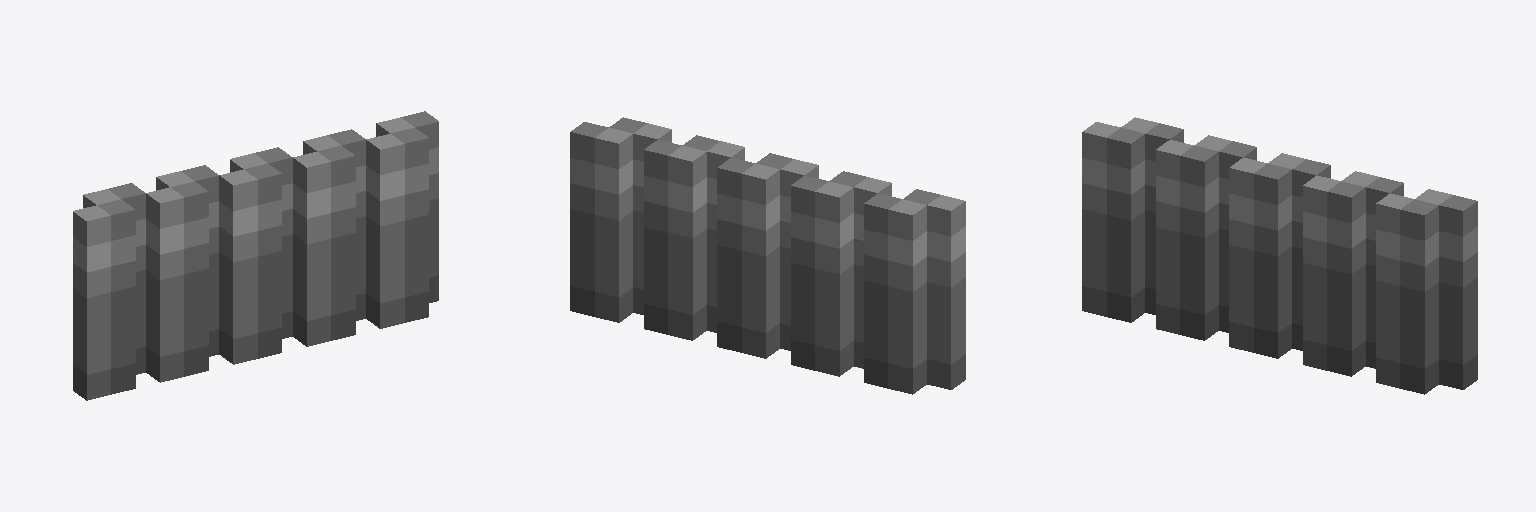
The picture shows the model from 3 angles: view 1: azimuth 30°, elevation 25°; view 2: azimuth 150°, elevation 25°; view 3: azimuth 330°, elevation 25°; orthographic projection.
Parts seen in each view (by area): view 1: ACR Stack; view 2: ACR Stack; view 3: ACR Stack.
Part boxes in pixels (bbox=[...]): ACR Stack: bbox=[73, 111, 438, 400]; ACR Stack: bbox=[570, 117, 965, 394]; ACR Stack: bbox=[1082, 117, 1477, 394].
Bounding box in the file's own units: 1.5 × 0.7 × 0.2.
1 materials, 1 textured.